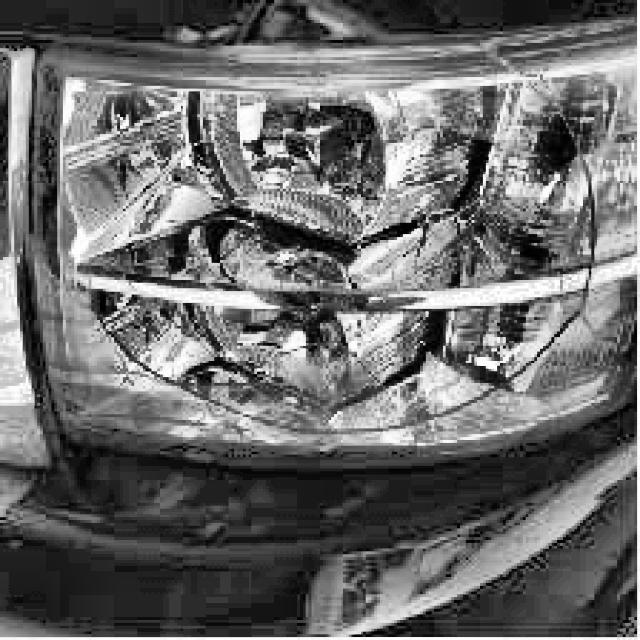head_lamp: (80, 82, 598, 402)
